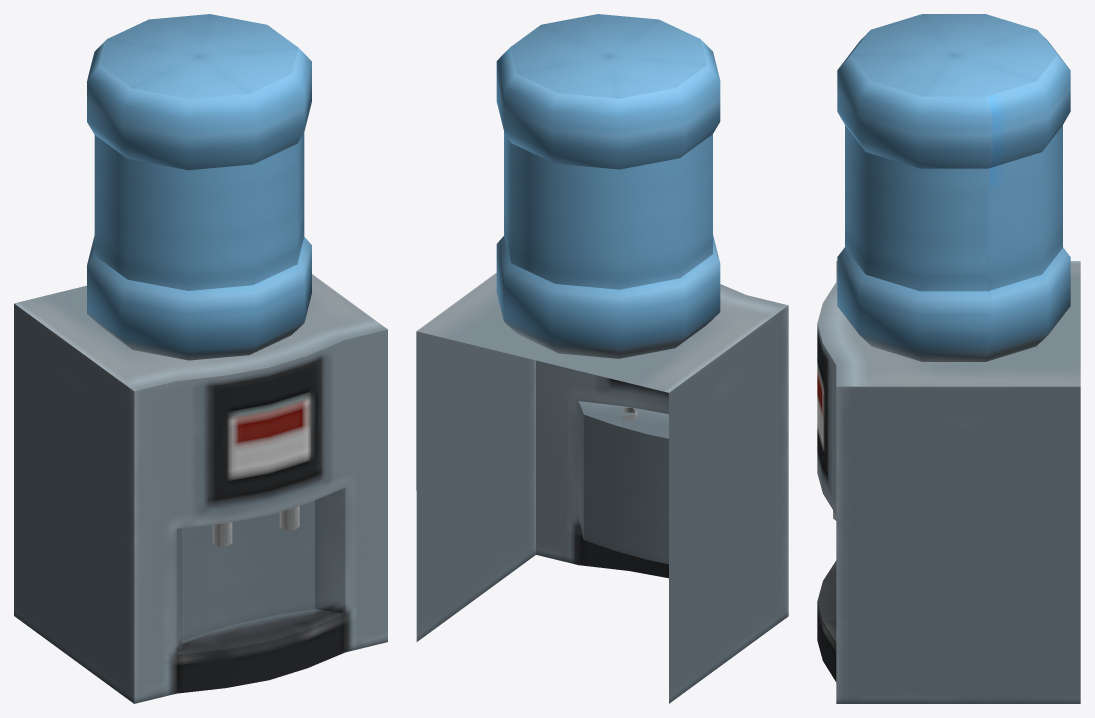
File: TuShuGuan_01_yinshuiji_01.FBX
3 views of the same model, side by side, from view 1: azimuth 30°, elevation 25°; view 2: azimuth 150°, elevation 25°; view 3: azimuth 270°, elevation 25° (orthographic). The views are drawn at different scales.
Parts seen in each view (by area): view 1: TuShuGuan_01_yinshuiji_01; view 2: TuShuGuan_01_yinshuiji_01; view 3: TuShuGuan_01_yinshuiji_01.
Part boxes in pixels (left/top/right/bottom): TuShuGuan_01_yinshuiji_01: left=14, top=14, right=387, bottom=703; TuShuGuan_01_yinshuiji_01: left=416, top=14, right=788, bottom=703; TuShuGuan_01_yinshuiji_01: left=817, top=14, right=1080, bottom=703.
Bounding box in the file's own units: 169 × 365 × 149.
